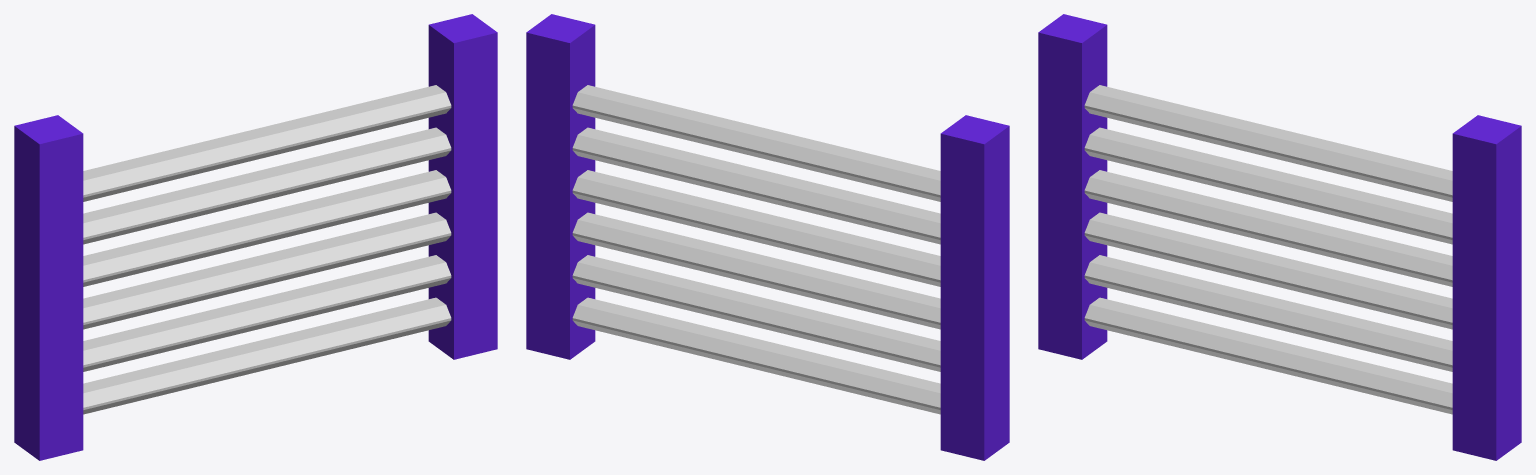
The model's file is FenceElectric.fbx.
3 views of the same model, side by side, from view 1: azimuth 30°, elevation 25°; view 2: azimuth 150°, elevation 25°; view 3: azimuth 330°, elevation 25° (orthographic).
Parts seen in each view (by area): view 1: Cube; view 2: Cube; view 3: Cube.
Part boxes in pixels (box(x1,y1,x2,y2)): Cube: box(14, 14, 497, 460); Cube: box(526, 14, 1009, 460); Cube: box(1038, 14, 1521, 460).
Bounding box in the file's own units: 748 × 494 × 71.56.
